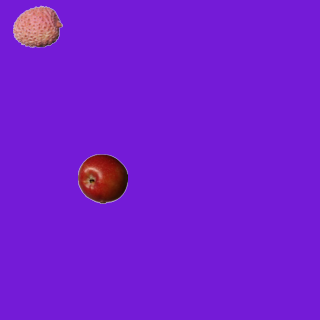Apple Braeburn: (77, 153, 127, 203)
Lychee: (12, 1, 62, 51)
